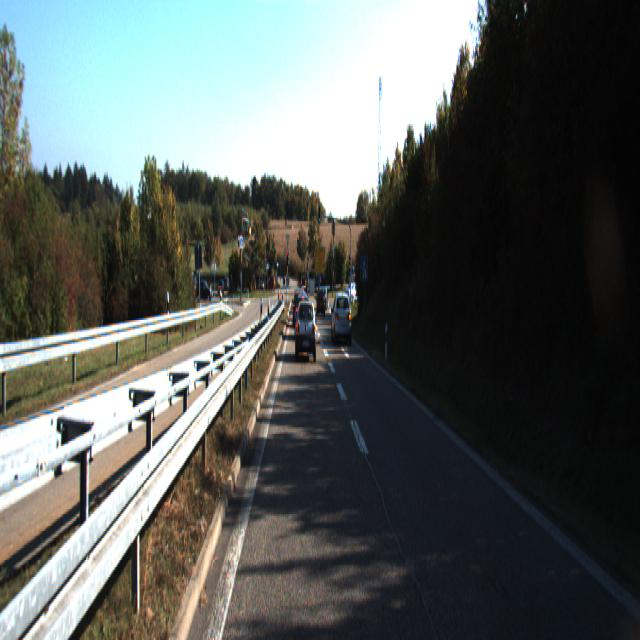Car: (295, 296, 317, 359), (331, 288, 351, 342), (294, 294, 310, 339), (316, 288, 325, 316)
